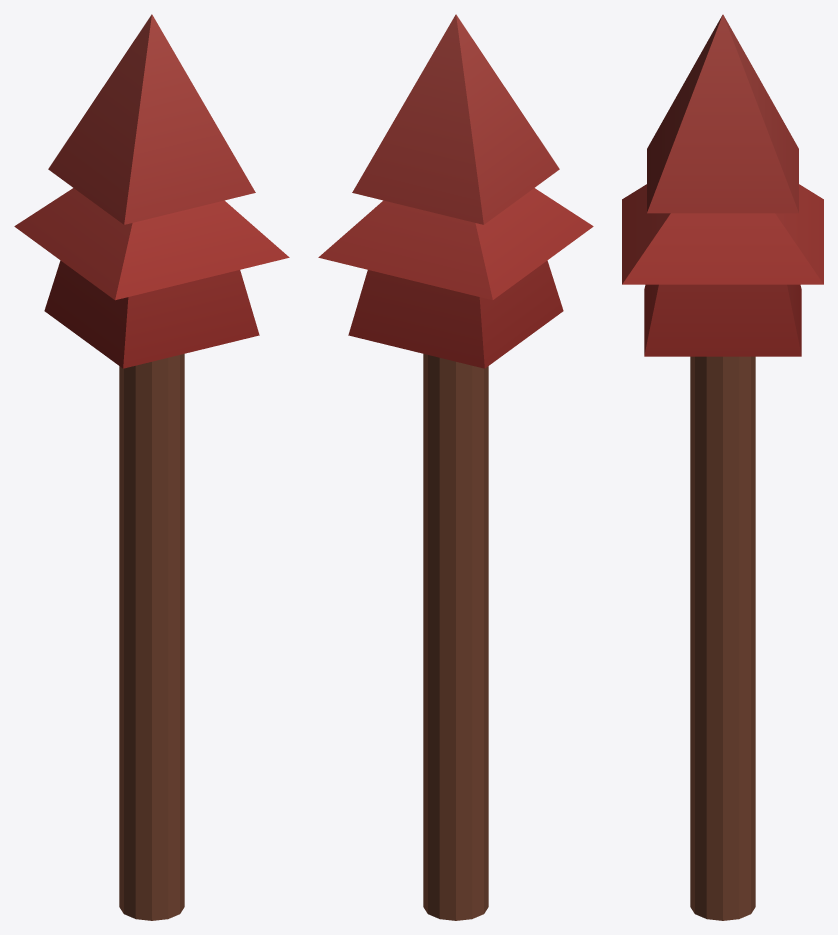
File: Tree_15_gradient_red_vc.fbx
3 views of the same model, side by side, from view 1: azimuth 30°, elevation 25°; view 2: azimuth 150°, elevation 25°; view 3: azimuth 270°, elevation 25° (orthographic).
Visible parts, largest first — view 1: Tree_15_gradient_red_vc; view 2: Tree_15_gradient_red_vc; view 3: Tree_15_gradient_red_vc.
Boxes of the visible parts, left/top/right/bottom form: Tree_15_gradient_red_vc: left=14, top=14, right=289, bottom=920; Tree_15_gradient_red_vc: left=318, top=14, right=593, bottom=920; Tree_15_gradient_red_vc: left=622, top=14, right=823, bottom=920.
Size of the model in its own units: 68.73 by 336 by 68.73.
